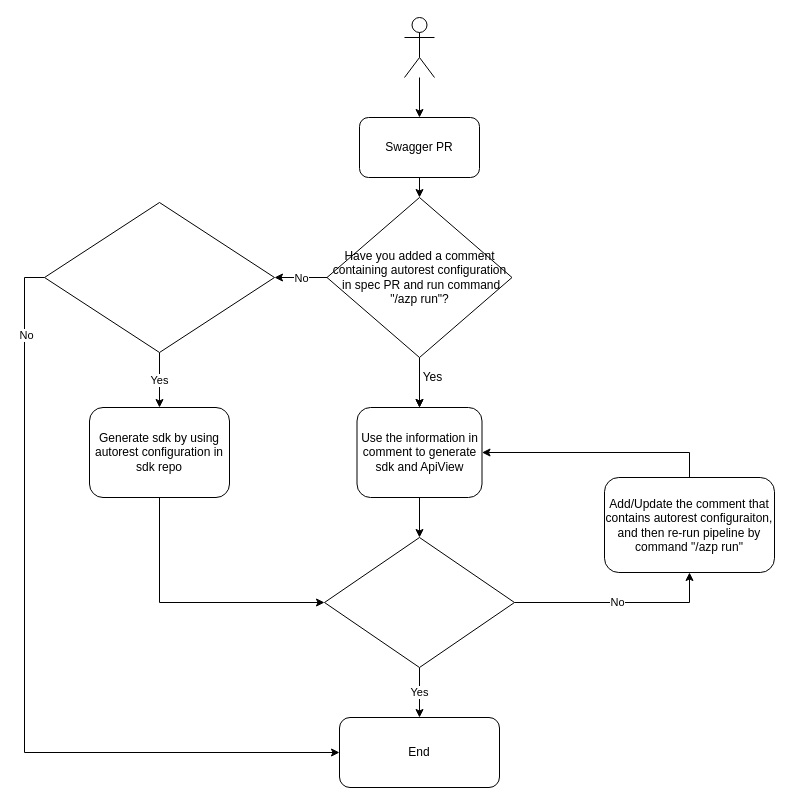
Some shapes in this 792 by 805 pixel diagram are drawn without their labels. Each missing label, with the centre of its shape:
Actor: the point at 419,47
Is API Definition approved?: the point at 419,602
Is there autorest configuration file in sdk repo?: the point at 159,277
